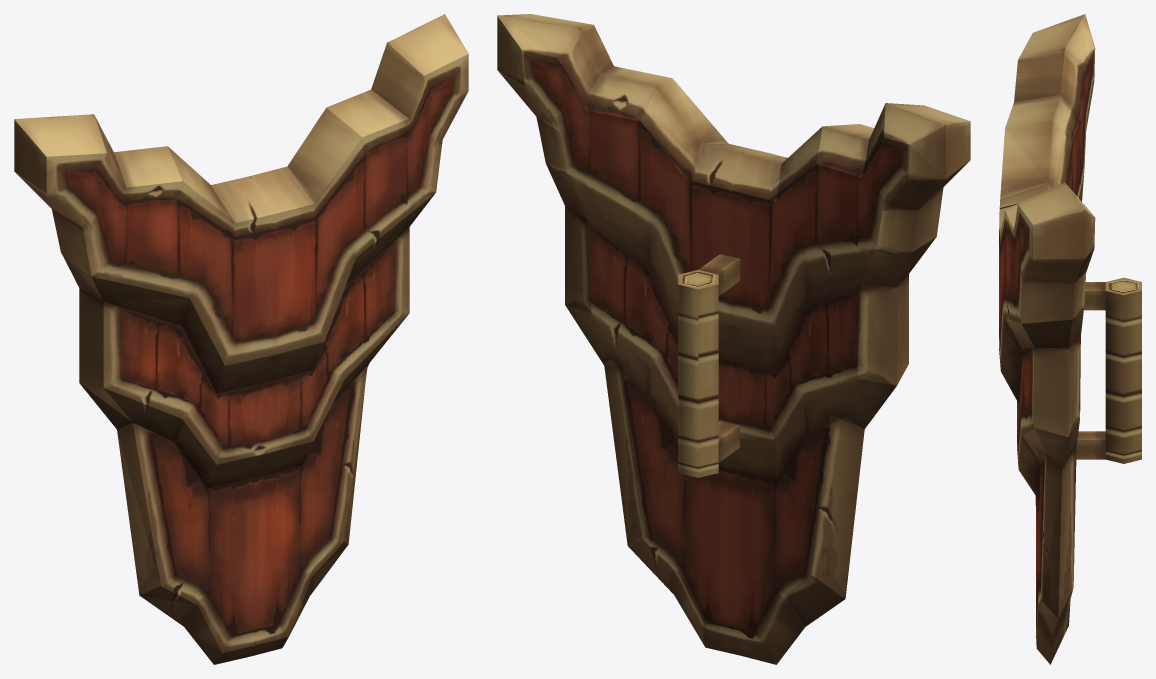
The model's file is shield-5.FBX.
The picture shows the model from 3 angles, left to right: view 1: azimuth 30°, elevation 25°; view 2: azimuth 150°, elevation 25°; view 3: azimuth 270°, elevation 25°; orthographic projection. The views are drawn at different scales.
Visible parts, largest first — view 1: shield-5; view 2: shield-5; view 3: shield-5.
Part boxes in pixels (x1,y1,x2,y2): shield-5: [14, 14, 468, 664]; shield-5: [497, 14, 970, 664]; shield-5: [999, 14, 1141, 664].
Size of the model in its own units: 71.43 by 91.34 by 22.03.
